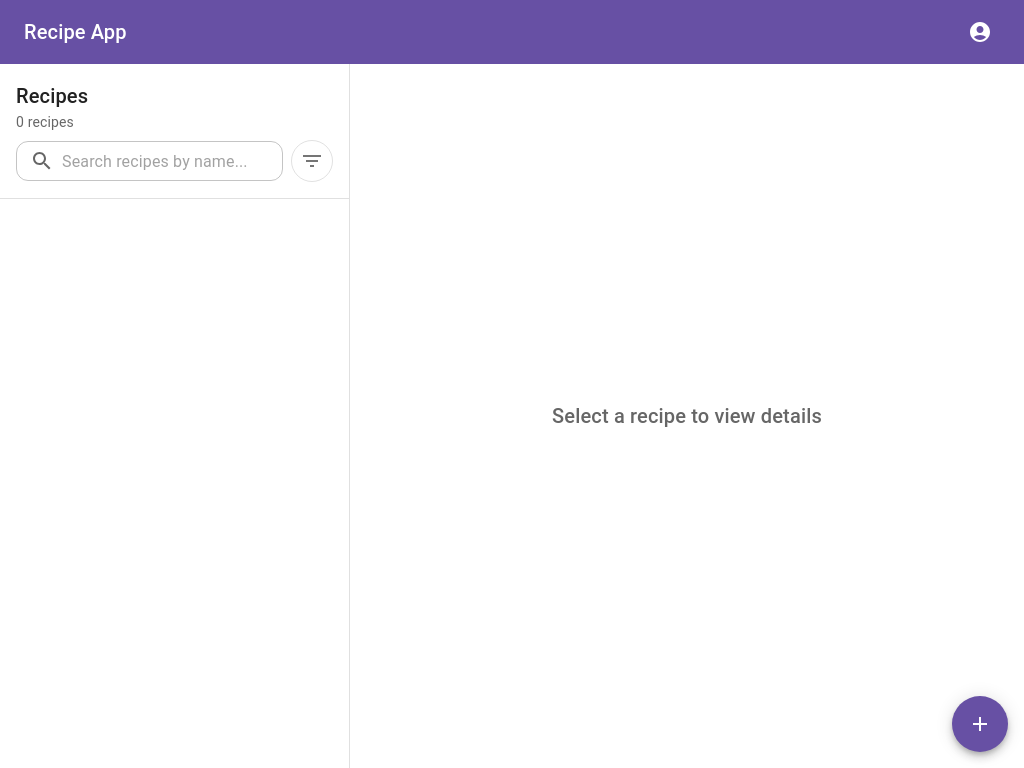
Test case: App › Adding Recipes › auto-selects newly added recipe
Note: Add recipe
Click the button named "add": coordinates (980, 724) [952, 696, 1008, 752]
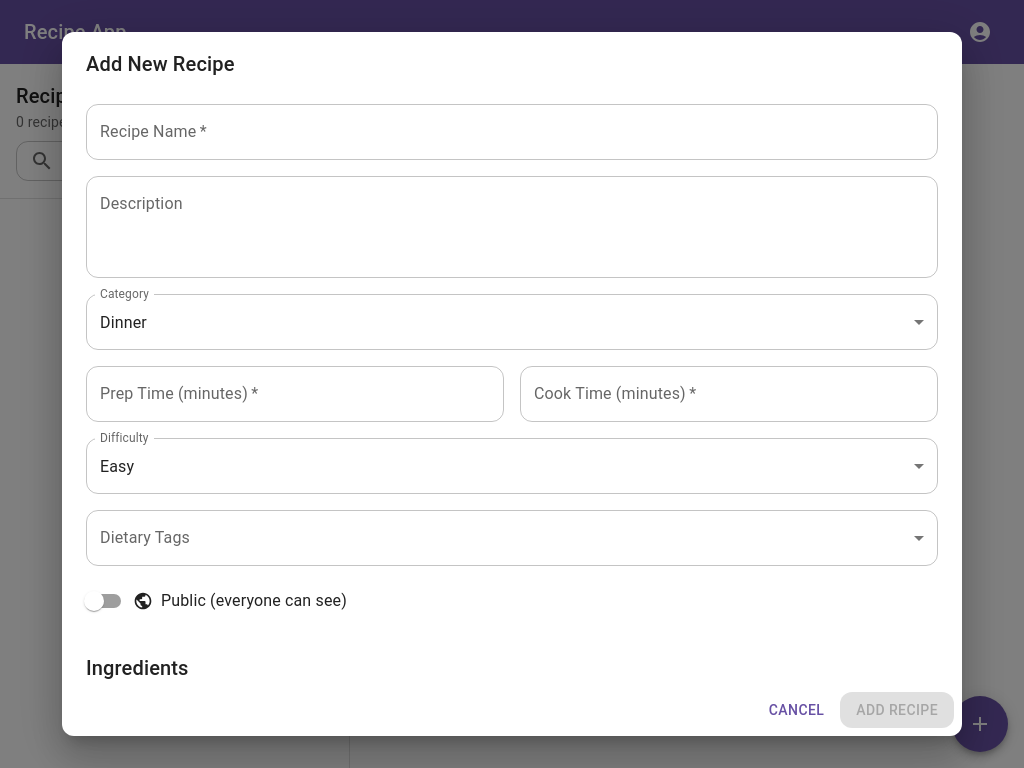
Expected: the field labelled "Recipe Name *" is shown
In the field labelled "Recipe Name *": coordinates (512, 132) [86, 104, 938, 160], type "Chocolate Cake"
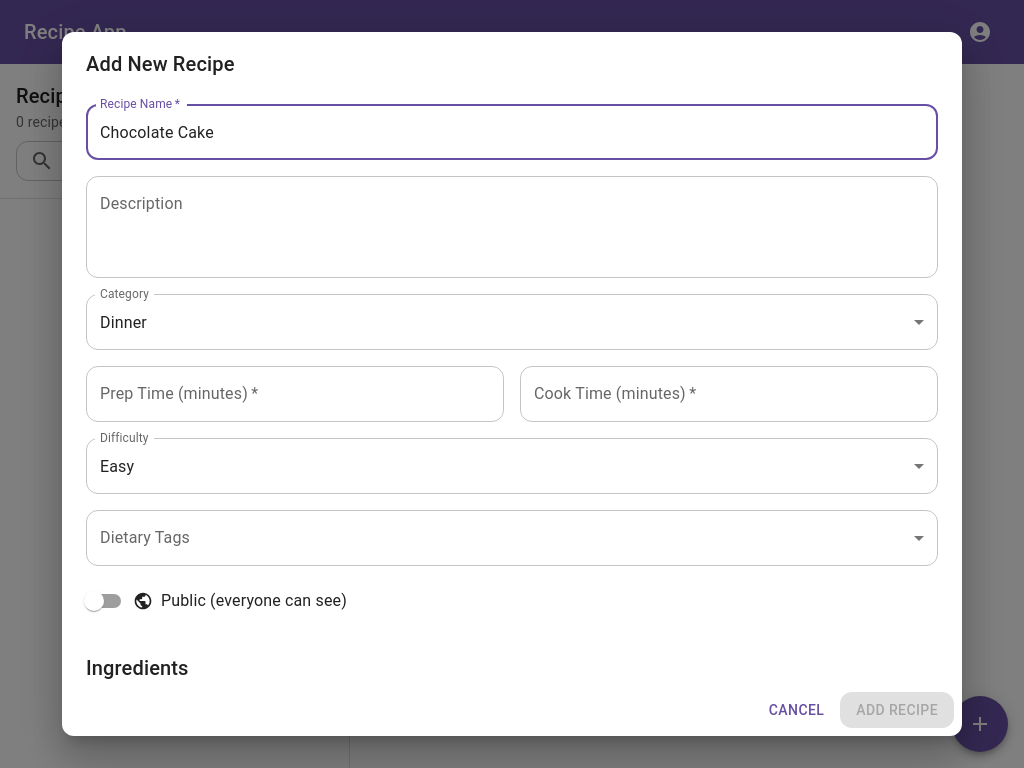
In the number field labelled "Prep Time (minutes) *": coordinates (295, 394) [86, 366, 504, 422], type "30"
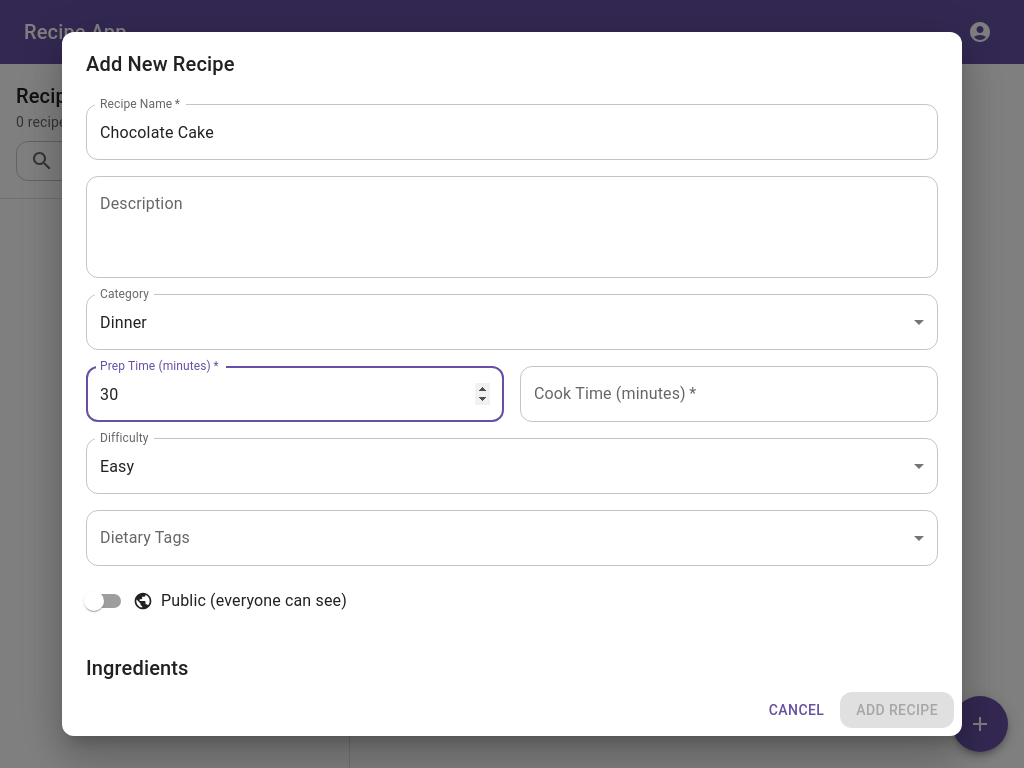
In the number field labelled "Cook Time (minutes) *": coordinates (729, 394) [520, 366, 938, 422], type "45"
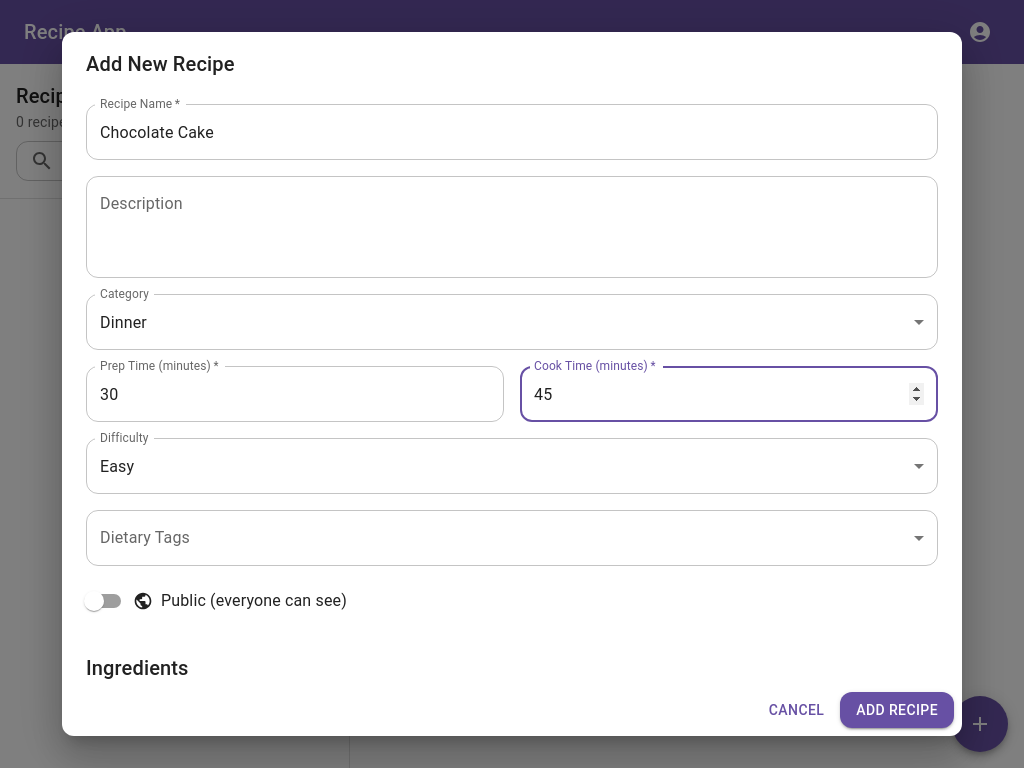
Click the button "Add Recipe": coordinates (897, 710) [840, 692, 954, 728]
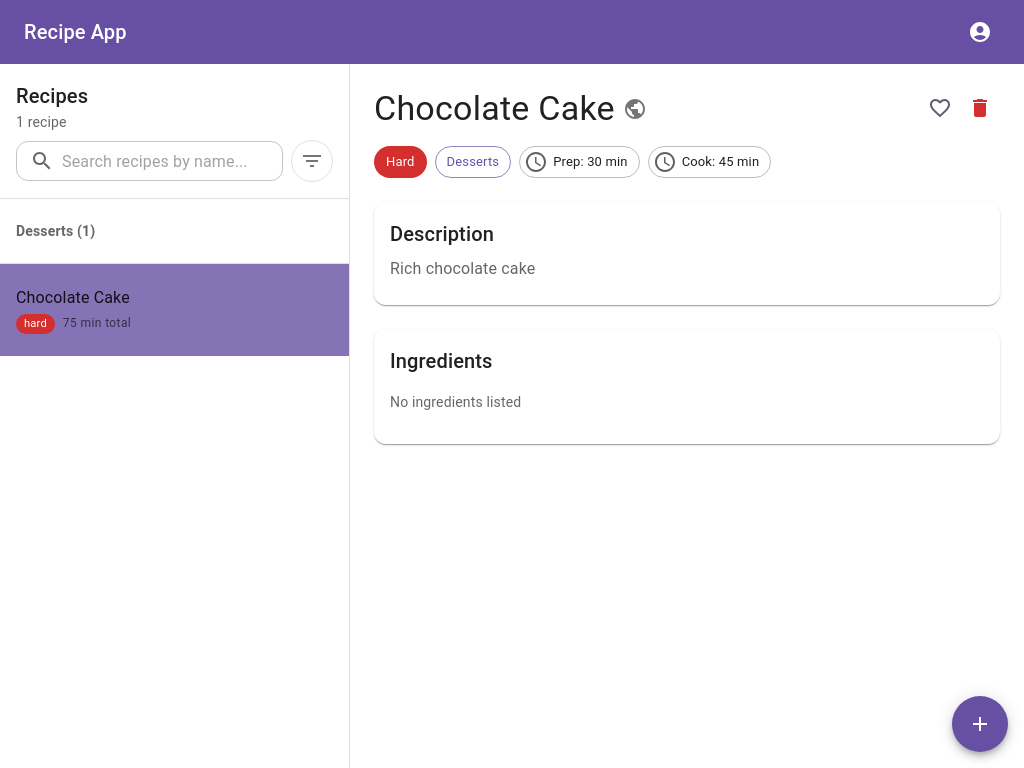
Expected: the text "Rich chocolate cake" is shown, [390, 259, 535, 278]
